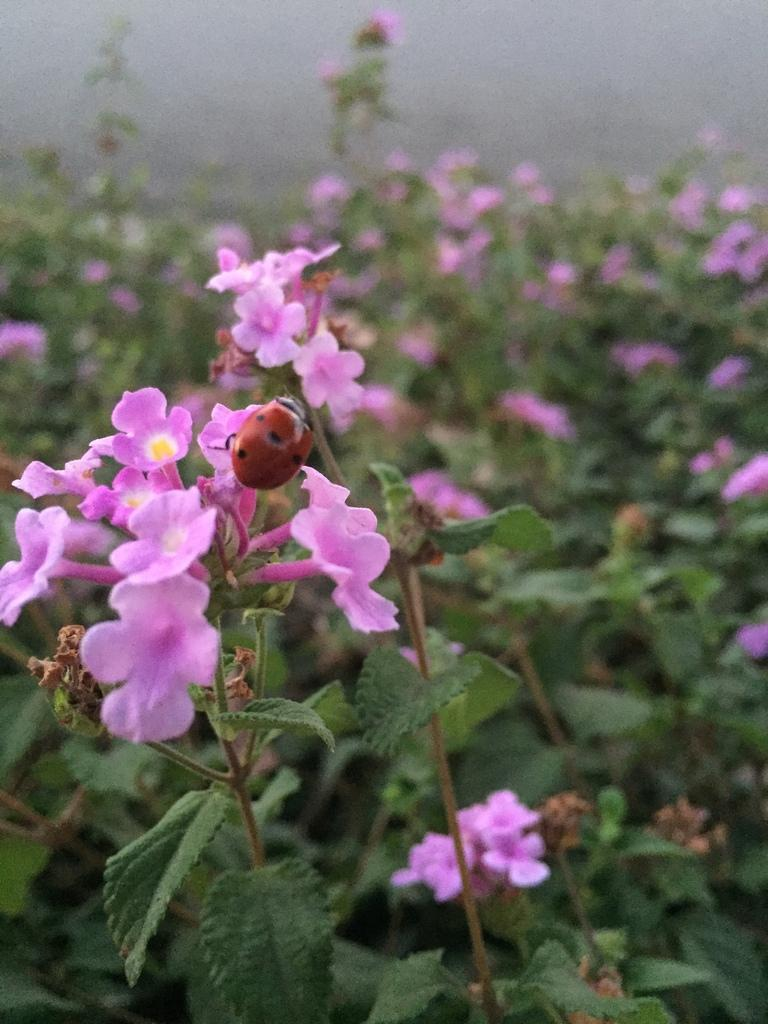ladybug: (206, 383, 319, 494)
